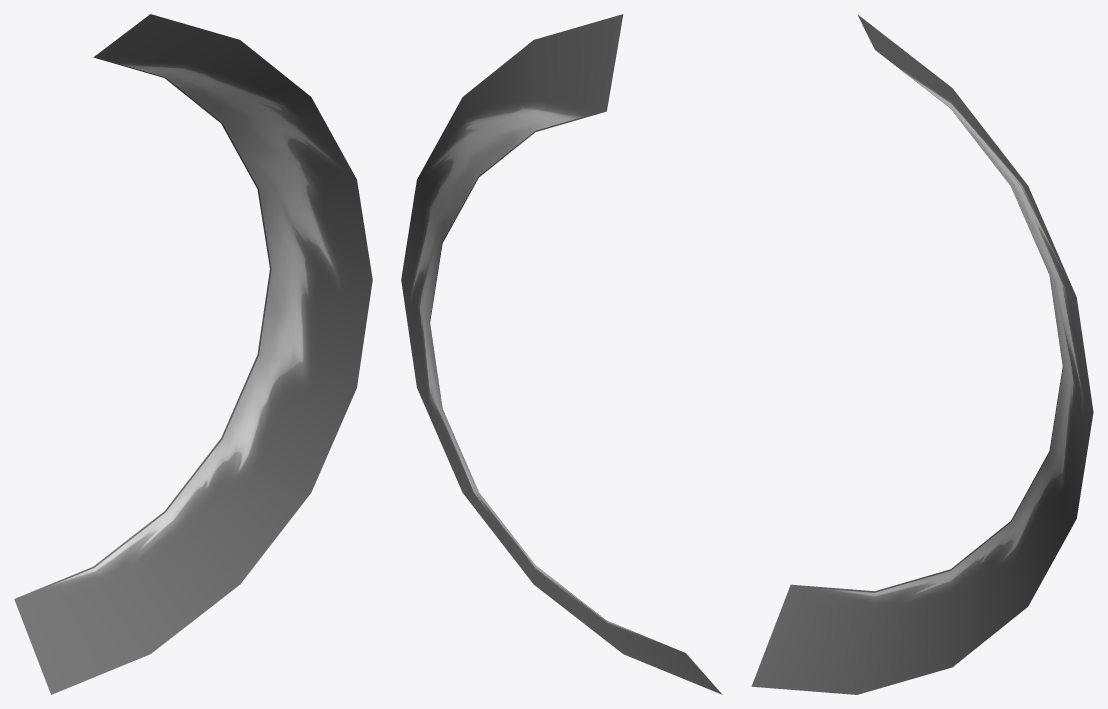
The model's file is Force_02.fbx.
3 views of the same model, side by side, from view 1: azimuth 30°, elevation 25°; view 2: azimuth 150°, elevation 25°; view 3: azimuth 330°, elevation 25° (orthographic). The views are drawn at different scales.
Visible parts, largest first — view 1: Force_02; view 2: Force_02; view 3: Force_02.
Part boxes in pixels (x1=…): Force_02: x1=14, y1=14, x2=372, y2=694; Force_02: x1=401, y1=14, x2=722, y2=694; Force_02: x1=751, y1=14, x2=1093, y2=694.
Bounding box in the file's own units: 2.52 × 4.91 × 0.5.
